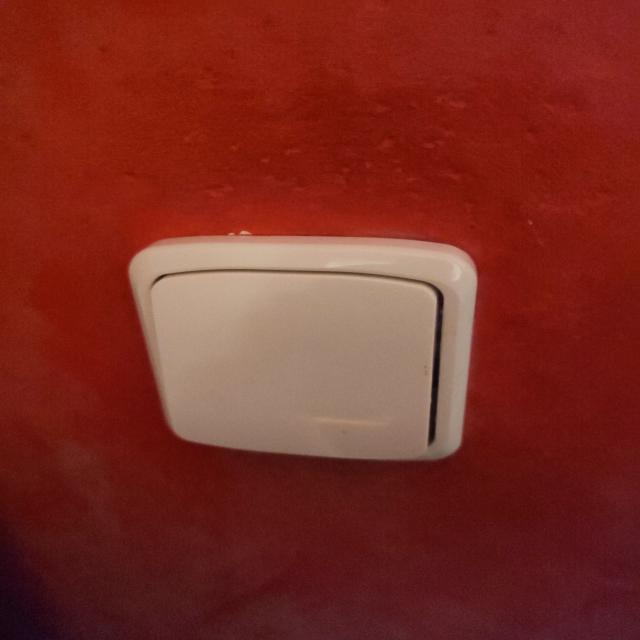house switch: (128, 234, 479, 461)
